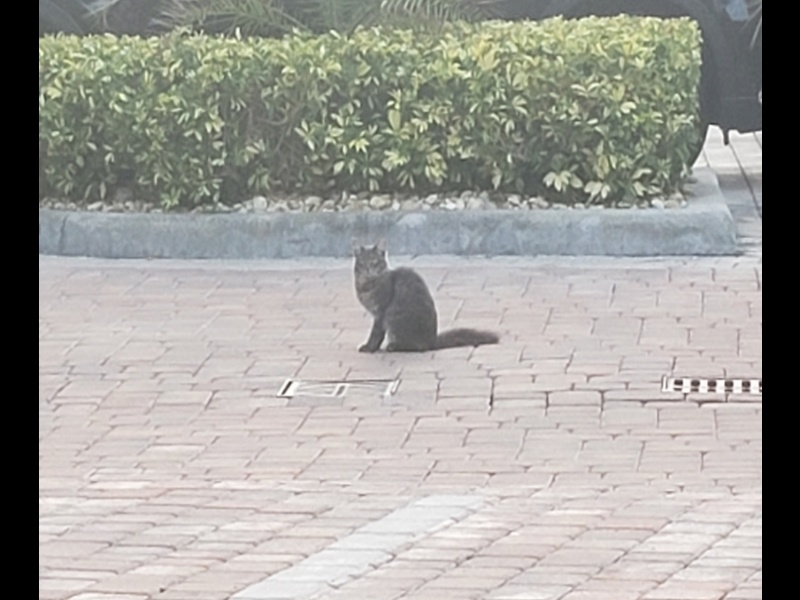cat: (348, 239, 501, 357)
